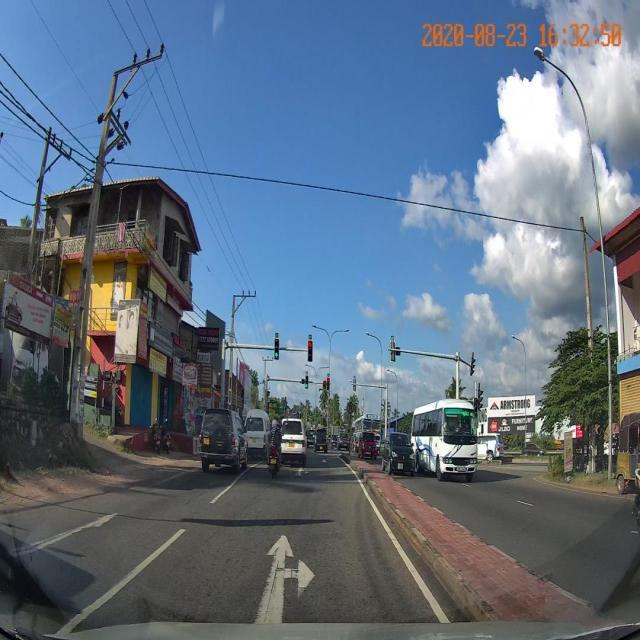Liniya 1: (337, 456, 453, 623), (51, 527, 189, 635), (209, 461, 262, 504)
Strelka vpered: (5, 513, 120, 558)
Strelka vpered - vpravo: (254, 532, 315, 626)
